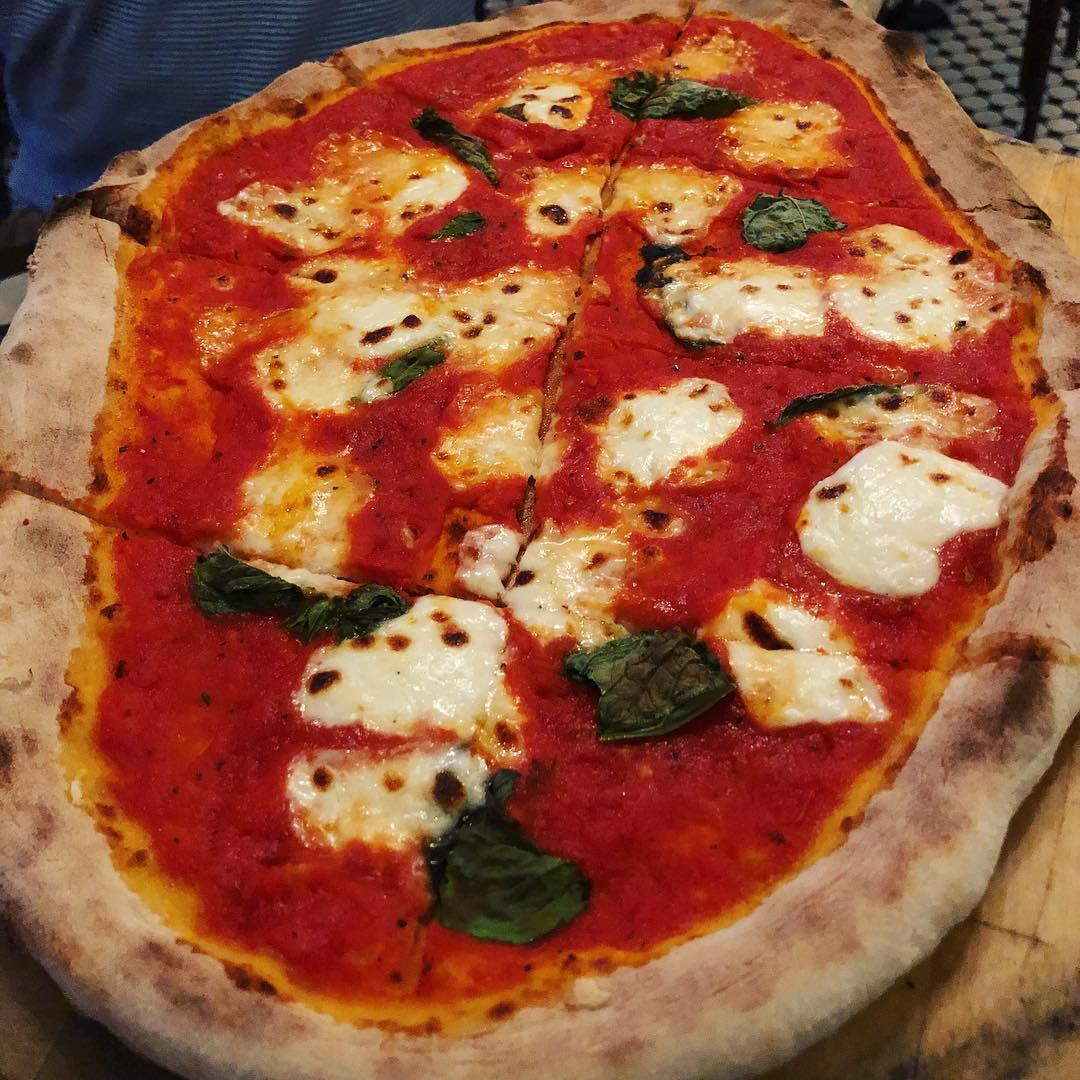Basil: (421, 807, 594, 939), (569, 627, 736, 748), (183, 551, 406, 634), (409, 101, 505, 186), (617, 69, 738, 125), (741, 193, 832, 260), (781, 375, 896, 418), (369, 337, 450, 393), (425, 209, 482, 241)
Cheese: (793, 441, 1000, 597), (295, 597, 512, 733), (713, 595, 892, 733), (837, 229, 1009, 352), (289, 751, 496, 850), (655, 255, 825, 349), (457, 517, 610, 621), (597, 379, 740, 480), (237, 453, 362, 566), (447, 265, 569, 368), (443, 389, 558, 480), (331, 137, 449, 225), (223, 177, 357, 253), (525, 157, 625, 232), (273, 331, 373, 404), (323, 293, 444, 352), (629, 161, 721, 236), (733, 107, 837, 170), (493, 77, 576, 122)
Pizza: (0, 9, 1080, 1080)
